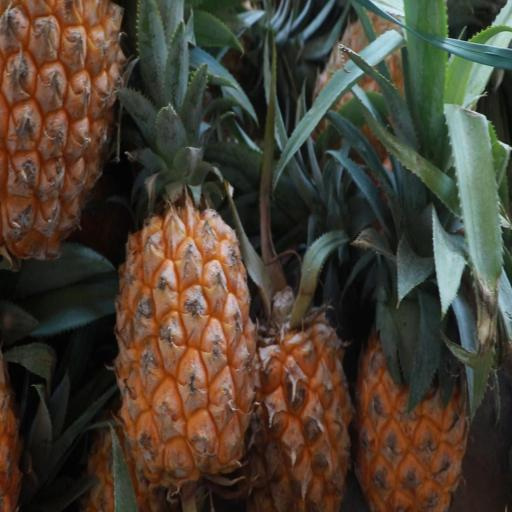Pineapple - v8 v1: (113, 133, 264, 494), (351, 187, 473, 512), (239, 252, 359, 512)
